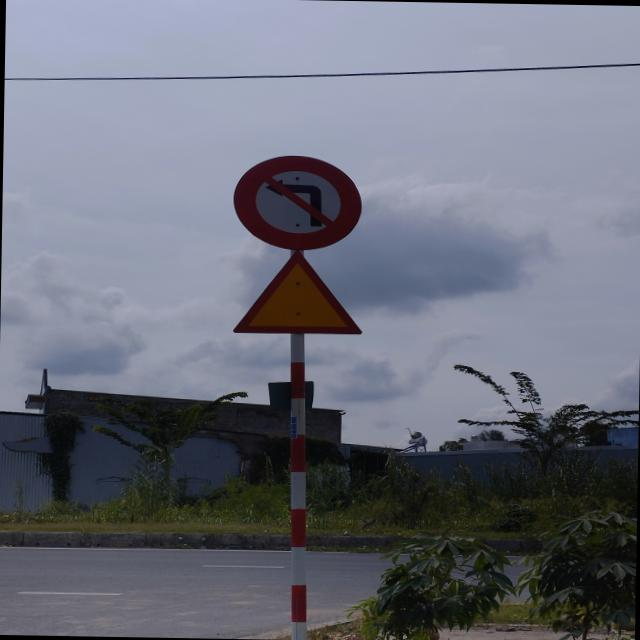Cam_Re_Trai: (228, 153, 366, 253)
Gioi_Han_Toc_Do_25: (232, 248, 364, 335)
